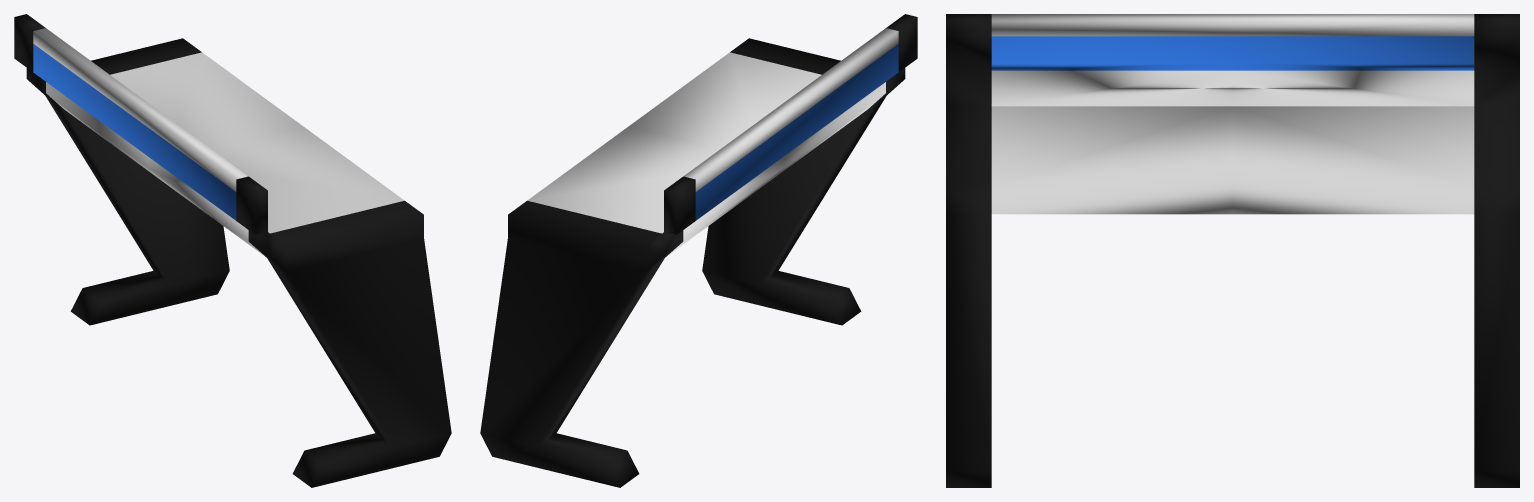
Rendered from desk(1).fbx.
The picture shows the model from 3 angles, left to right: view 1: azimuth 30°, elevation 25°; view 2: azimuth 150°, elevation 25°; view 3: azimuth 270°, elevation 25°; orthographic projection. The views are drawn at different scales.
Visible parts, largest first — view 1: Plane; view 2: Plane; view 3: Plane.
Part boxes in pixels (box(x1,y1,x2,y2)): Plane: box(14, 14, 451, 487); Plane: box(480, 14, 917, 487); Plane: box(946, 14, 1519, 487).
Size of the model in its own units: 307 by 460 by 652.
